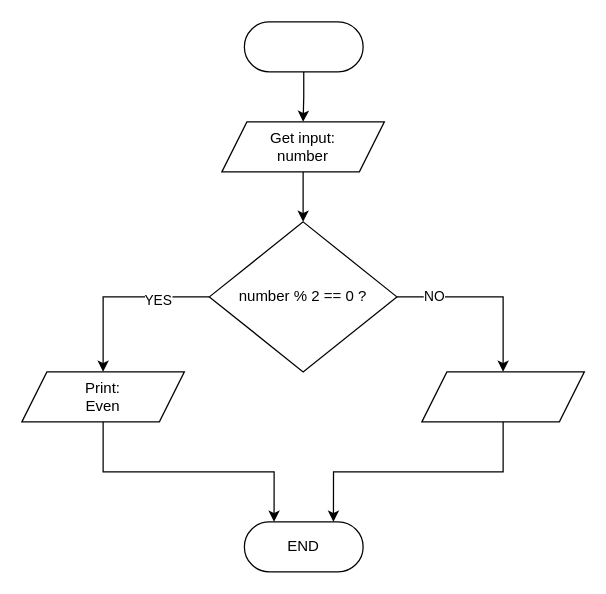
This 606x594 diagram has some shape labels left out. The box of each missing label's shape, as (x1, y1, x2, y2) in pixels:
Print: Odd: (421, 371, 584, 422)
START: (243, 21, 363, 72)
